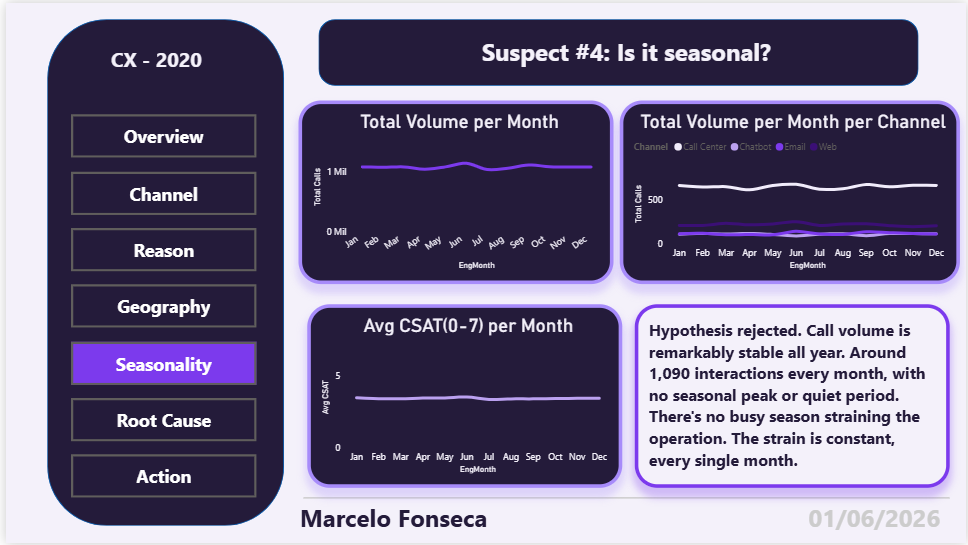

Layout of this report page (visuals, bound fields, positions):
{"tool":"powerbi","page":{"name":"Seasonality","canvas":[1280,720],"ordinal":6},"visuals":[{"type":"shape","box":[54.4,21.1,315.8,675.4],"z":0},{"type":"textbox","box":[135.5,50.9,149.1,57.9],"z":1000},{"type":"shape","box":[417.1,21.4,800,88.6],"z":2000},{"type":"textbox","box":[448.6,38.6,757.1,71.4],"z":3000},{"type":"shape","box":[396.5,629.8,861.4,59.6],"z":4000},{"type":"textbox","box":[386,659.6,300,59.6],"z":5000},{"type":"textbox","box":[1064.9,659.6,193,59.6],"z":6000},{"type":"actionButton","title":"Overview","box":[86.4,149.1,247.4,57.9],"z":7000},{"type":"actionButton","box":[86.4,224.6,247.4,57.9],"z":8000},{"type":"actionButton","box":[86.4,300,247.4,57.9],"z":9000},{"type":"actionButton","box":[86.4,375.4,247.4,57.9],"z":10000},{"type":"actionButton","box":[86.4,450.9,247.4,57.9],"z":11000},{"type":"actionButton","box":[86.4,526.3,247.4,57.9],"z":12000},{"type":"actionButton","box":[86.4,601.8,247.4,57.9],"z":13000},{"type":"lineChart","title":"Total Volume per Month","fields":{"Y":["Call Center Data.Total Calls"],"Category":["Calendar.EngMonth"]},"box":[390,130,420,245],"z":13001},{"type":"lineChart","title":"Total Volume per Month per Channel","fields":{"Y":["Call Center Data.Total Calls"],"Series":["Channel.Channel Description"],"Category":["Calendar.EngMonth"]},"box":[818.3,130,453.3,245],"z":13002},{"type":"lineChart","title":"Avg CSAT(0-7) per Month","fields":{"Y":["Call Center Data.Avg CSAT"],"Category":["Calendar.EngMonth"]},"box":[401.7,401.7,420,245],"z":13003},{"type":"textbox","box":[838.3,401.7,420,245],"z":13004}]}

Visuals, with their boxes in screenshot pixels (x1, y1, x2, y2), scaled from the page's 1280x720 canvas onto the 968x545 screenshot:
shape: {"x1": 41, "y1": 16, "x2": 280, "y2": 527}
textbox: {"x1": 102, "y1": 39, "x2": 215, "y2": 82}
shape: {"x1": 315, "y1": 16, "x2": 920, "y2": 83}
textbox: {"x1": 339, "y1": 29, "x2": 912, "y2": 83}
shape: {"x1": 300, "y1": 477, "x2": 951, "y2": 522}
textbox: {"x1": 292, "y1": 499, "x2": 519, "y2": 544}
textbox: {"x1": 805, "y1": 499, "x2": 951, "y2": 544}
"Overview" actionButton: {"x1": 65, "y1": 113, "x2": 252, "y2": 157}
actionButton: {"x1": 65, "y1": 170, "x2": 252, "y2": 214}
actionButton: {"x1": 65, "y1": 227, "x2": 252, "y2": 271}
actionButton: {"x1": 65, "y1": 284, "x2": 252, "y2": 328}
actionButton: {"x1": 65, "y1": 341, "x2": 252, "y2": 385}
actionButton: {"x1": 65, "y1": 398, "x2": 252, "y2": 442}
actionButton: {"x1": 65, "y1": 456, "x2": 252, "y2": 499}
"Total Volume per Month" lineChart: {"x1": 295, "y1": 98, "x2": 613, "y2": 284}
"Total Volume per Month per Channel" lineChart: {"x1": 619, "y1": 98, "x2": 962, "y2": 284}
"Avg CSAT(0-7) per Month" lineChart: {"x1": 304, "y1": 304, "x2": 621, "y2": 490}
textbox: {"x1": 634, "y1": 304, "x2": 952, "y2": 490}
